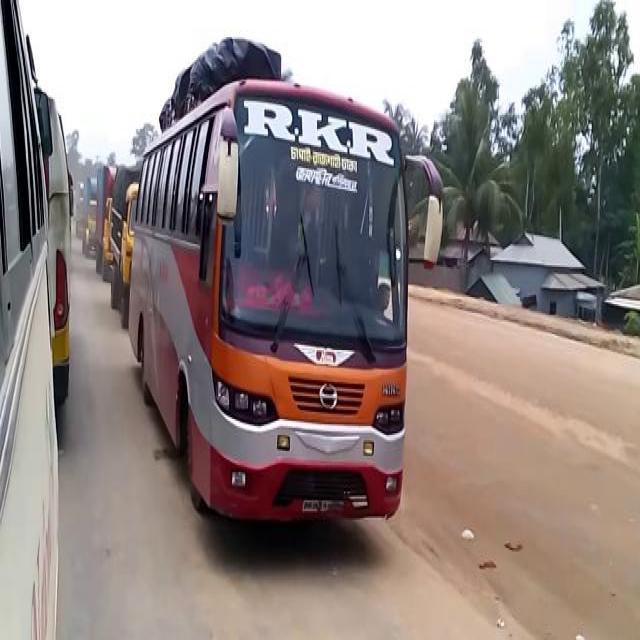vehicle: (125, 33, 416, 524), (2, 1, 58, 636), (34, 79, 75, 408), (109, 160, 140, 330), (95, 162, 113, 280), (83, 174, 97, 259)
